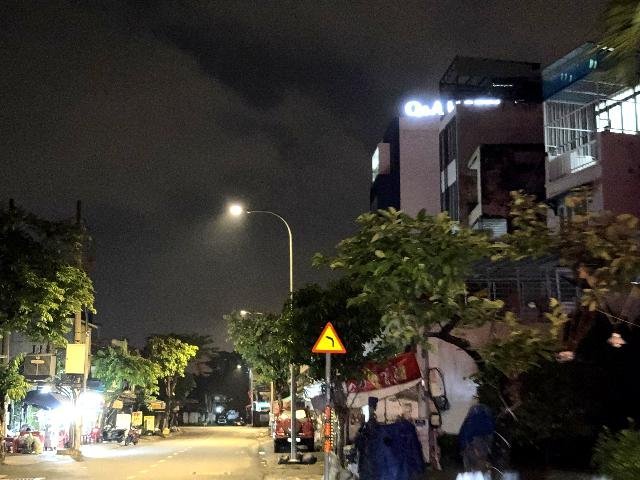cho-ngoat-nguy-hiem-ben-trai: (311, 321, 347, 353)
